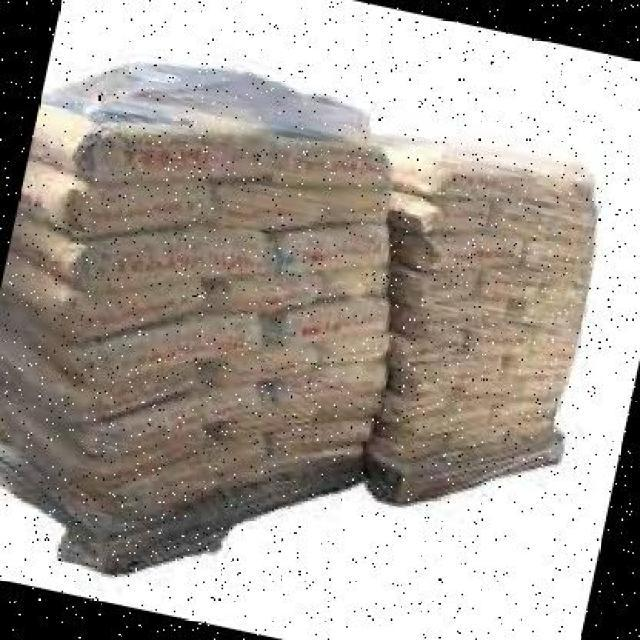gunny_bag: (0, 370, 268, 468), (0, 285, 262, 384), (0, 323, 207, 433), (7, 212, 267, 298), (28, 103, 267, 178), (0, 263, 206, 350), (16, 157, 207, 237), (211, 326, 387, 394), (204, 178, 387, 226), (211, 266, 387, 306), (271, 219, 385, 276), (396, 227, 525, 276), (269, 296, 386, 347), (267, 136, 380, 185), (387, 347, 502, 394), (281, 362, 385, 413), (394, 259, 483, 312), (475, 266, 587, 307), (387, 296, 505, 333), (493, 199, 598, 238), (378, 405, 498, 438), (270, 417, 373, 455), (462, 323, 576, 353), (437, 165, 533, 200), (454, 374, 569, 403), (421, 196, 495, 240), (384, 325, 466, 362), (512, 294, 582, 336), (379, 387, 453, 423), (497, 398, 557, 433), (529, 172, 593, 204), (522, 241, 590, 270), (510, 349, 572, 371)
